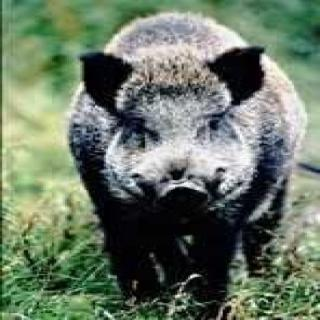Pig: (63, 12, 319, 320)
